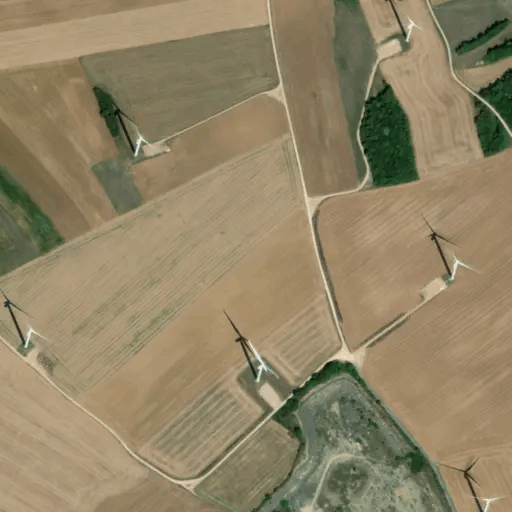wt: (219, 306, 275, 388), (422, 215, 481, 283), (442, 455, 505, 512), (110, 95, 156, 166), (3, 287, 43, 352), (387, 4, 425, 45)
